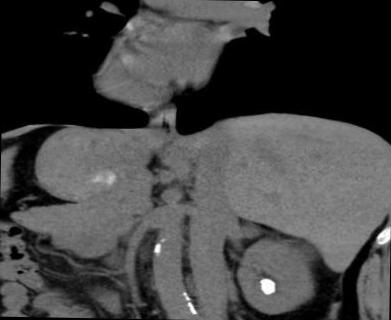Tas_Var: (253, 276, 280, 299)
